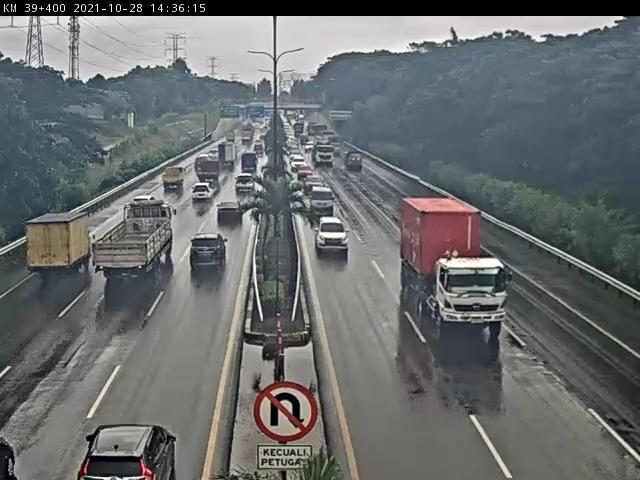car: (192, 232, 231, 271), (315, 216, 352, 255), (310, 189, 337, 218), (215, 201, 245, 226), (191, 183, 217, 204), (234, 173, 258, 195), (307, 174, 328, 194), (132, 195, 158, 208)
truck: (399, 198, 508, 337), (96, 200, 179, 279), (26, 210, 94, 277), (198, 159, 225, 185), (163, 165, 189, 190)
